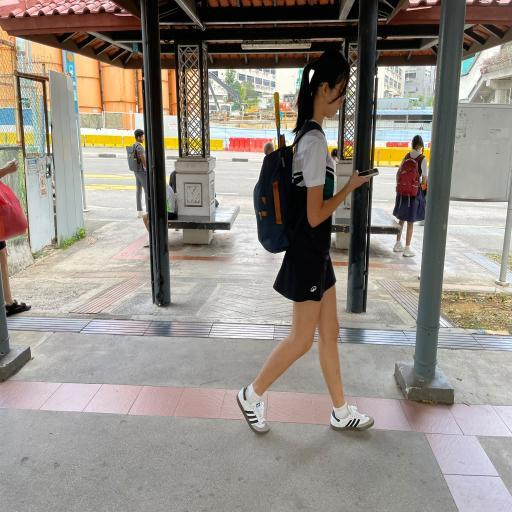person_right: (238, 50, 380, 439)
